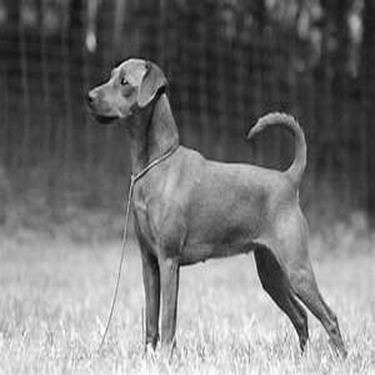dog: (76, 48, 353, 367)
